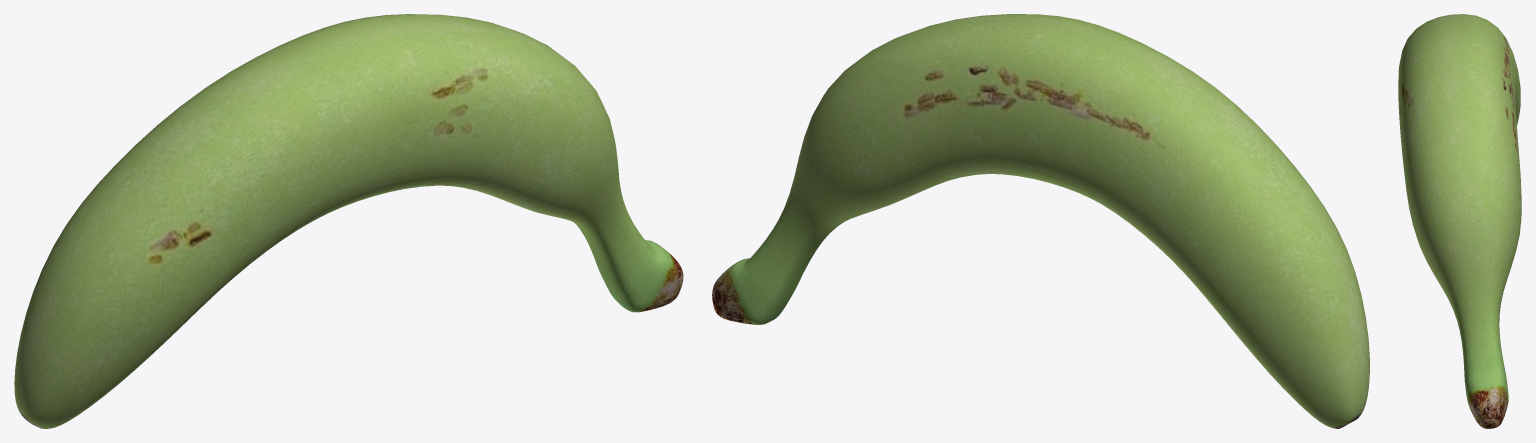
The model's file is GreenBananaExocarp.obj.
3 renders of one model, left to right at view 1: azimuth 30°, elevation 25°; view 2: azimuth 150°, elevation 25°; view 3: azimuth 270°, elevation 25°, orthographic. The views are drawn at different scales.
Visible parts, largest first — view 1: GreenBananaExocarp; view 2: GreenBananaExocarp; view 3: GreenBananaExocarp.
Boxes of the visible parts, x1,y1,x2,y2 form: GreenBananaExocarp: [14, 14, 683, 428]; GreenBananaExocarp: [712, 14, 1369, 428]; GreenBananaExocarp: [1398, 14, 1521, 428].
Bounding box in the file's own units: 0.2023 × 0.106 × 0.0437.
Materials: 1 (1 with a texture image).
